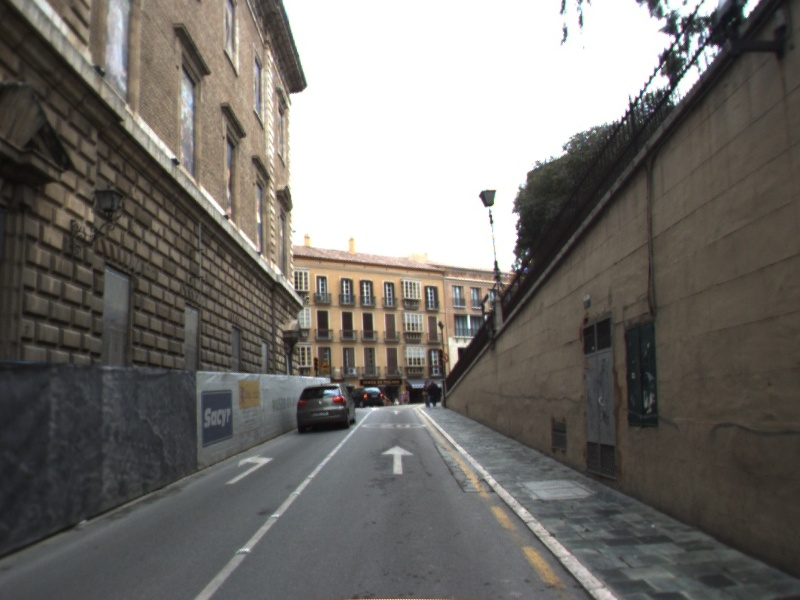LEFT: (223, 452, 276, 487)
STRAIGHT: (379, 443, 416, 476)
